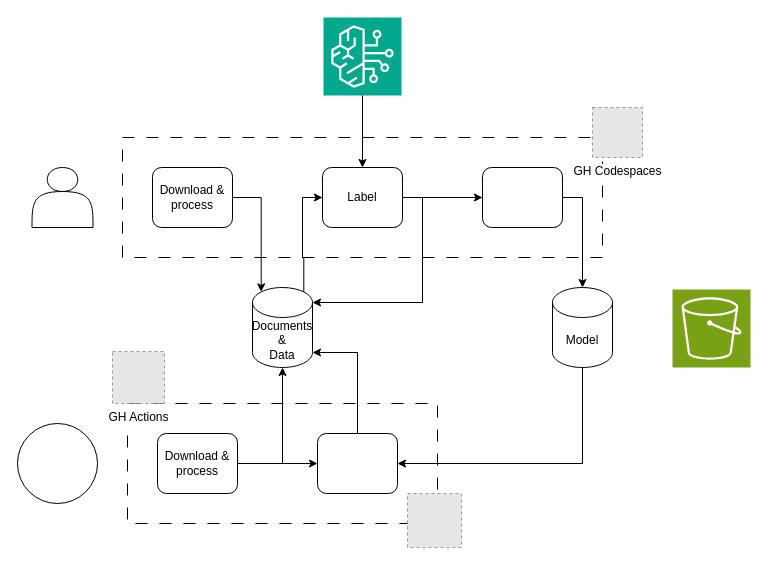
Some shapes in this 768 by 565 pixel diagram are drawn without their labels. Grey dashed boxes stand in for pictures. Each missing label, with the box of its shape:
Bedrock (Claude): (322, 16, 402, 96)
Classify: (316, 432, 398, 494)
cron: (16, 422, 98, 504)
Train: (482, 166, 562, 228)
